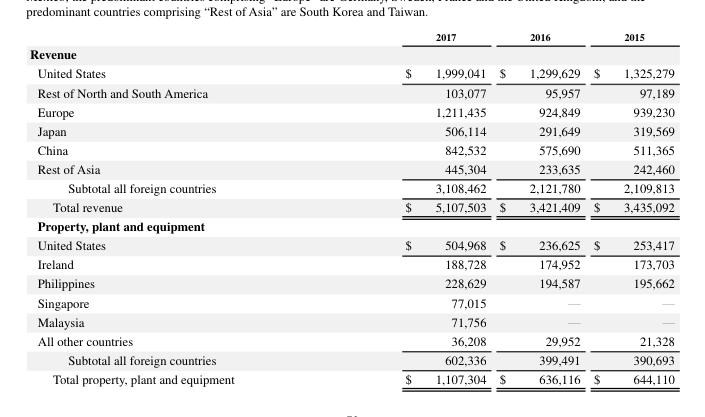table: (29, 29, 673, 386)
table column: (29, 29, 319, 386), (319, 29, 492, 386), (492, 29, 586, 386), (586, 29, 673, 386)
table column header: (29, 29, 673, 44)
table projected row header: (29, 215, 673, 235), (29, 44, 673, 63)
table row: (29, 215, 673, 235), (29, 272, 673, 292), (29, 44, 673, 63), (29, 63, 673, 82), (29, 82, 673, 101), (29, 101, 673, 120), (29, 120, 673, 139), (29, 139, 673, 158), (29, 158, 673, 177), (29, 177, 673, 196), (29, 196, 673, 215), (29, 253, 673, 272), (29, 292, 673, 311), (29, 311, 673, 330), (29, 330, 673, 349), (29, 349, 673, 368), (29, 235, 673, 253), (29, 368, 673, 386), (29, 29, 673, 44)
